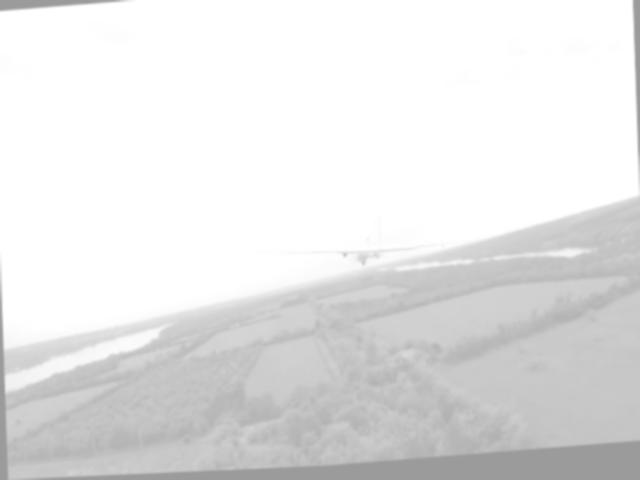hedef: (235, 223, 488, 288)
